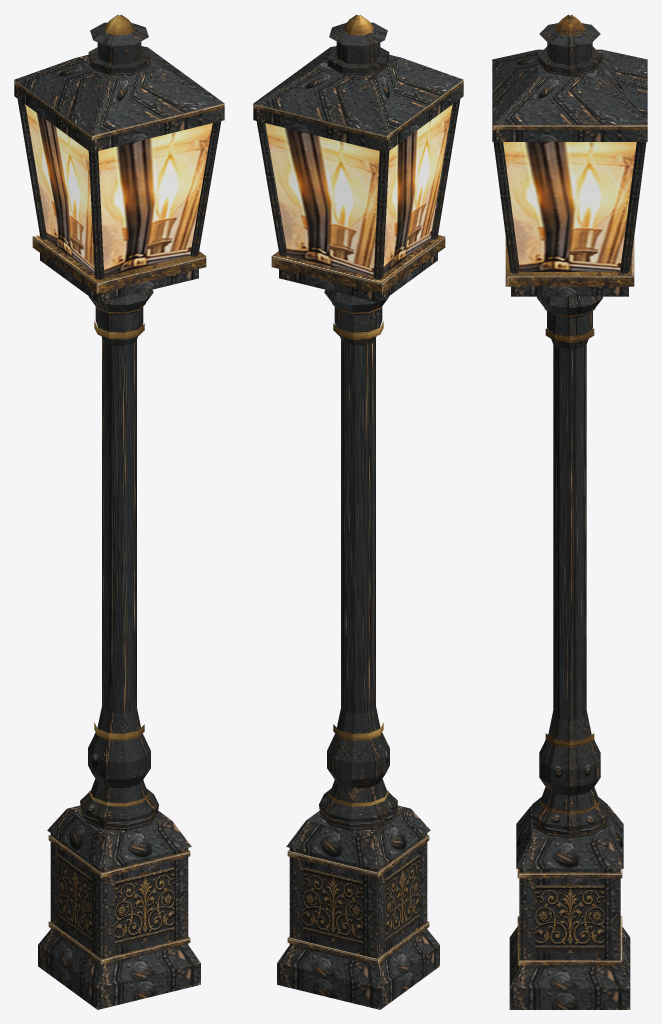
The model's file is station_gaslamp.glb.
3 renders of one model, left to right at view 1: azimuth 30°, elevation 25°; view 2: azimuth 150°, elevation 25°; view 3: azimuth 270°, elevation 25°, orthographic.
Parts seen in each view (by area): view 1: station_gaslamp; view 2: station_gaslamp; view 3: station_gaslamp.
Boxes of the visible parts, <box> form: station_gaslamp: <box>14,14,224,1009</box>; station_gaslamp: <box>253,14,463,1009</box>; station_gaslamp: <box>492,14,647,1009</box>.
Bounding box in the file's own units: 0.58 × 4 × 0.58.
Materials: 4 (4 with a texture image).
